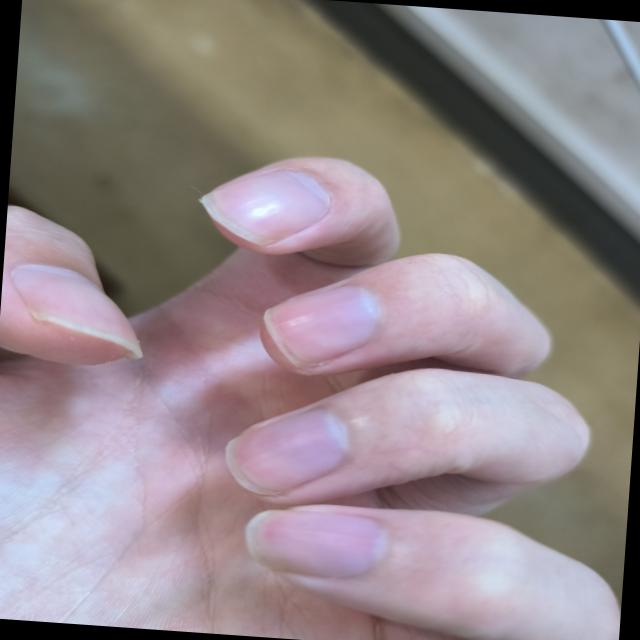Nail: (11, 264, 142, 355), (226, 408, 350, 494), (246, 510, 389, 578), (202, 171, 331, 245), (266, 285, 380, 365)
